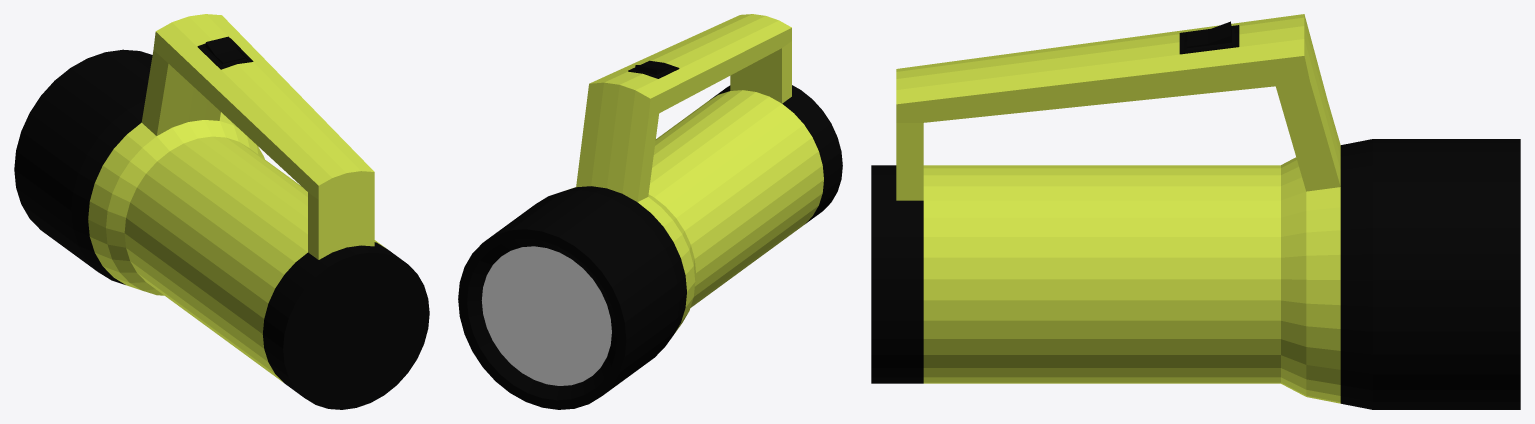
The model's file is Flash Light.fbx.
3 views of the same model, side by side, from view 1: azimuth 30°, elevation 25°; view 2: azimuth 150°, elevation 25°; view 3: azimuth 270°, elevation 25° (orthographic). The views are drawn at different scales.
Visible parts, largest first — view 1: Cylinder; view 2: Cylinder; view 3: Cylinder.
Boxes of the visible parts, x1,y1,x2,y2 form: Cylinder: [14, 14, 429, 409]; Cylinder: [458, 14, 842, 409]; Cylinder: [871, 14, 1520, 409].
Size of the model in its own units: 599 by 949 by 396.
